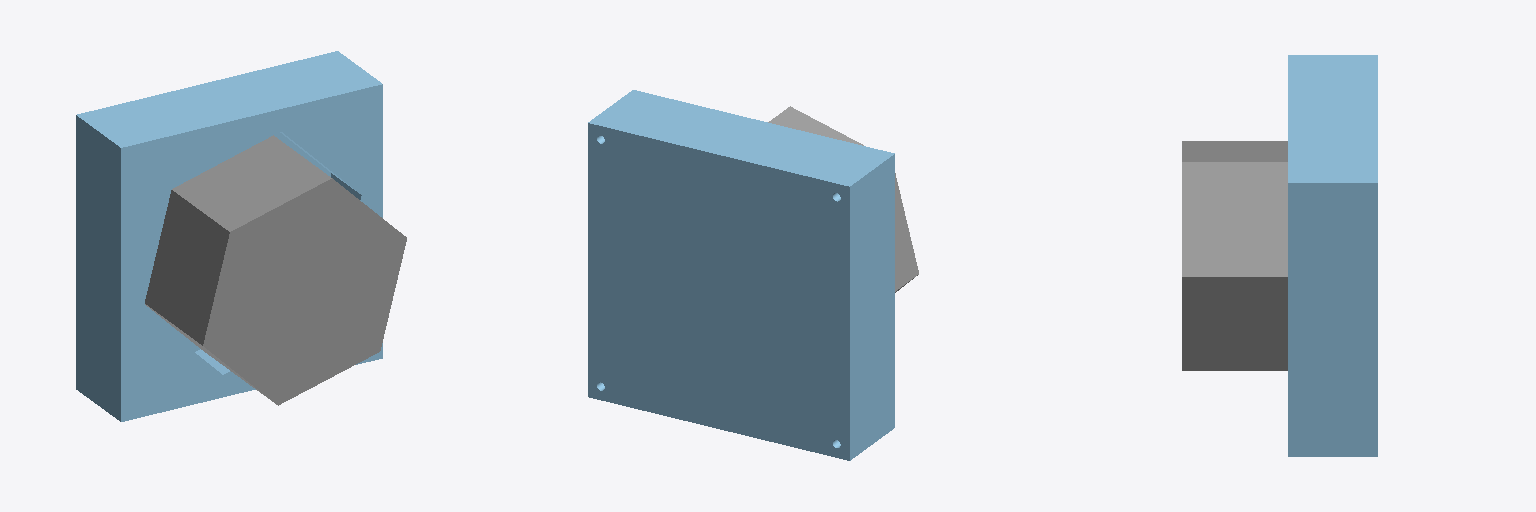
Rendered from k2_3dprint.obj.
3 renders of one model, left to right at view 1: azimuth 30°, elevation 25°; view 2: azimuth 150°, elevation 25°; view 3: azimuth 270°, elevation 25°, orthographic.
Visible parts, largest first — view 1: k2; view 2: k2; view 3: k2.
Part boxes in pixels (bbox=[...]): k2: bbox=[76, 51, 406, 421]; k2: bbox=[588, 90, 918, 460]; k2: bbox=[1182, 55, 1377, 456].
Bounding box in the file's own units: 1 × 1 × 0.65.